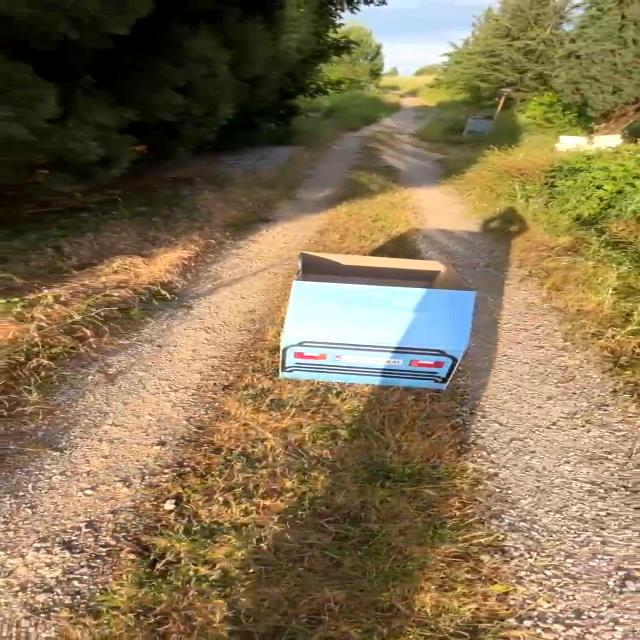blue_car: (251, 224, 492, 415)
